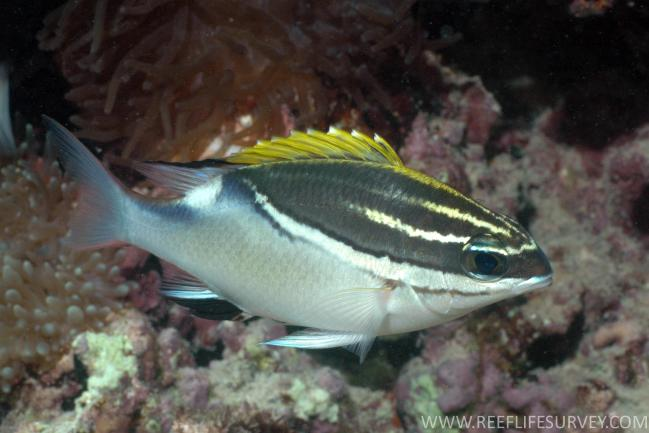fish: (42, 113, 554, 361)
